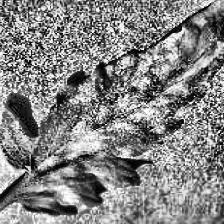leaf mold: (0, 0, 224, 211)
